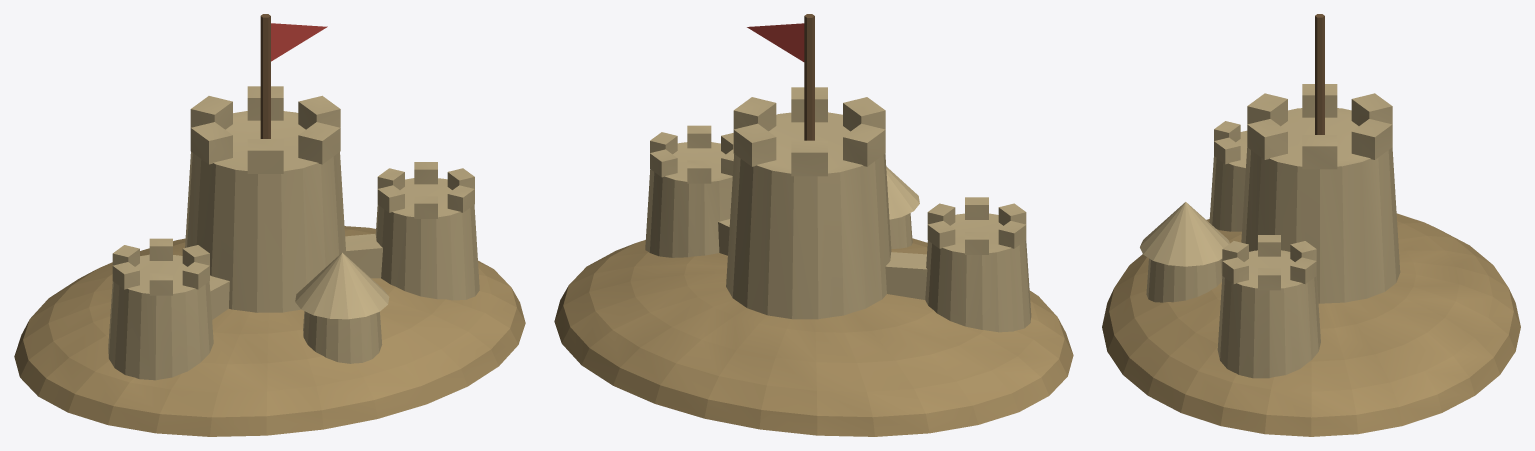
File: beach-sandcastle.glb
3 renders of one model, left to right at view 1: azimuth 30°, elevation 25°; view 2: azimuth 150°, elevation 25°; view 3: azimuth 270°, elevation 25°, orthographic. The views are drawn at different scales.
Parts seen in each view (by area): view 1: Beach_sandcastle; view 2: Beach_sandcastle; view 3: Beach_sandcastle.
Part boxes in pixels (x1=…): Beach_sandcastle: x1=14, y1=14, x2=525, y2=436; Beach_sandcastle: x1=554, y1=14, x2=1073, y2=436; Beach_sandcastle: x1=1102, y1=14, x2=1520, y2=436.
Bounding box in the file's own units: 1 × 0.6613 × 0.8065.
